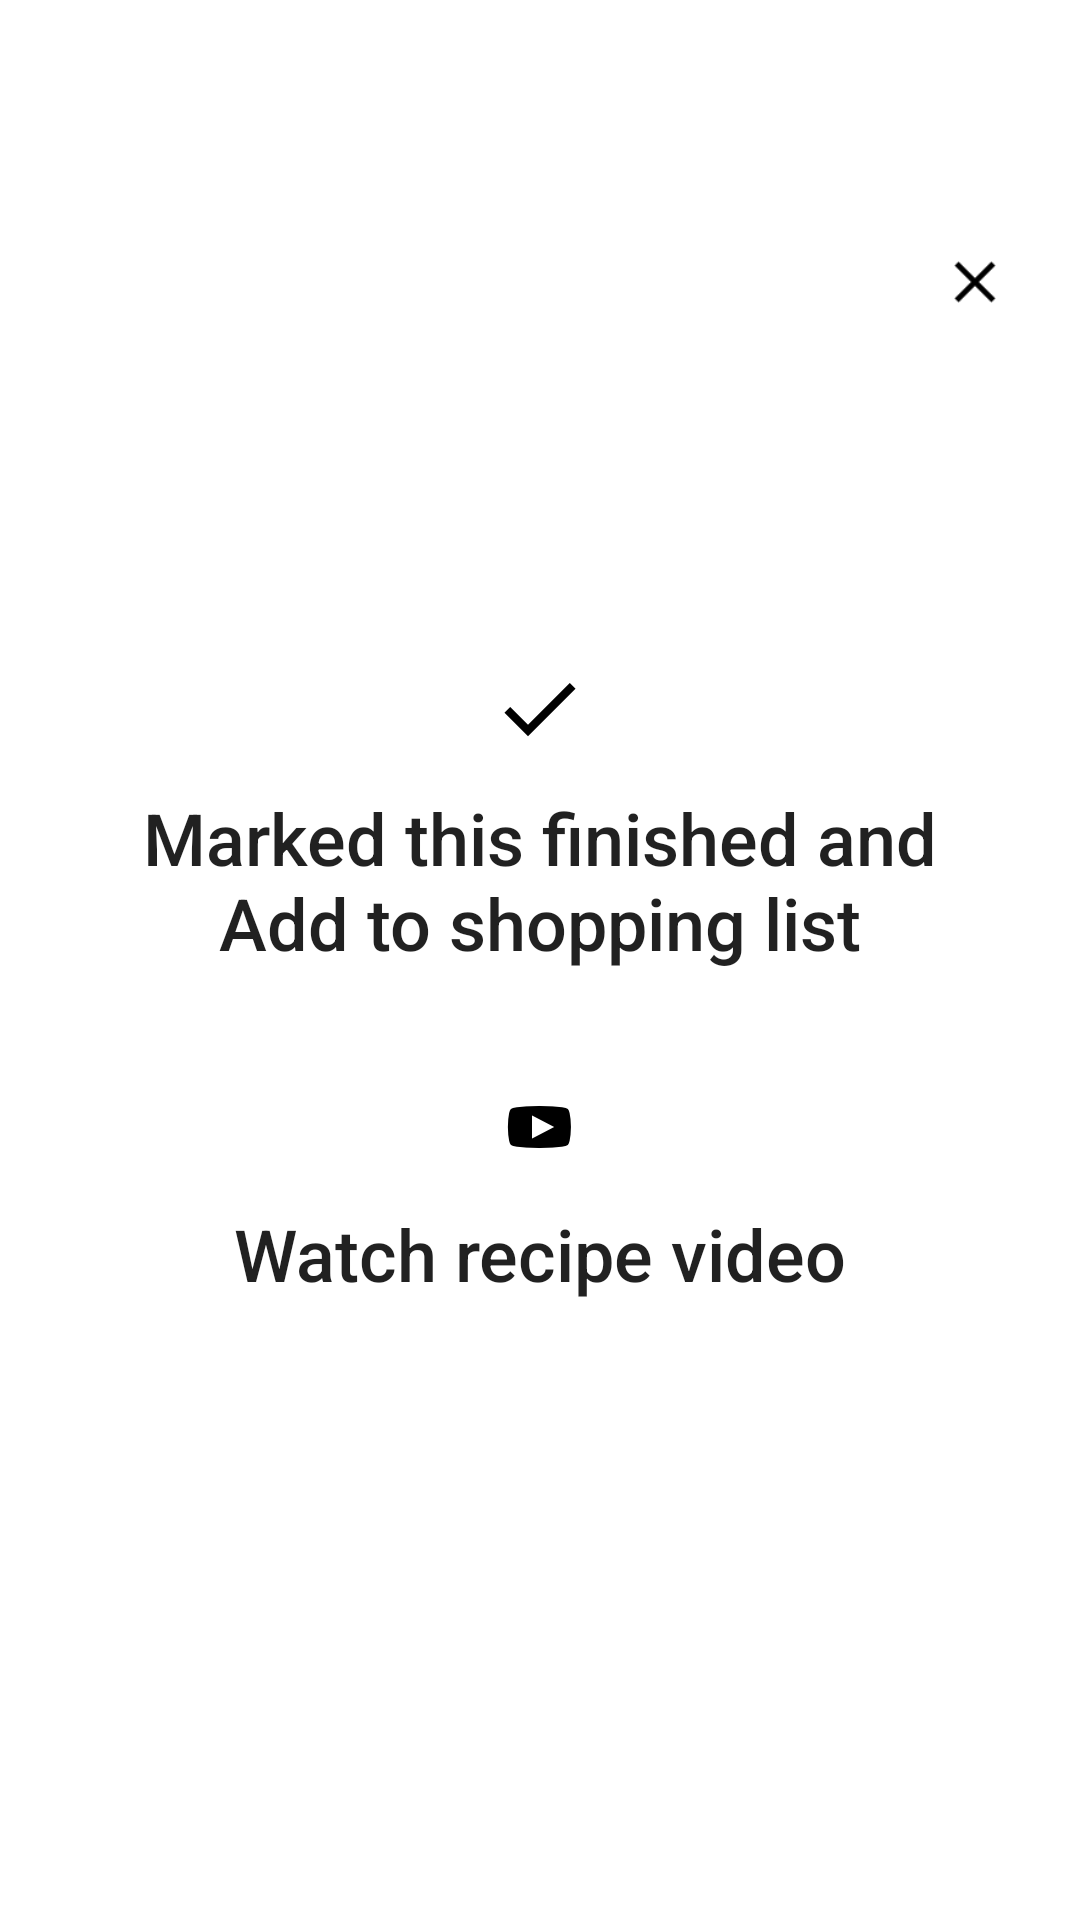

Where to tap for icons on this 1080x1920 app screen, as (x,y):
close: (975,282)
